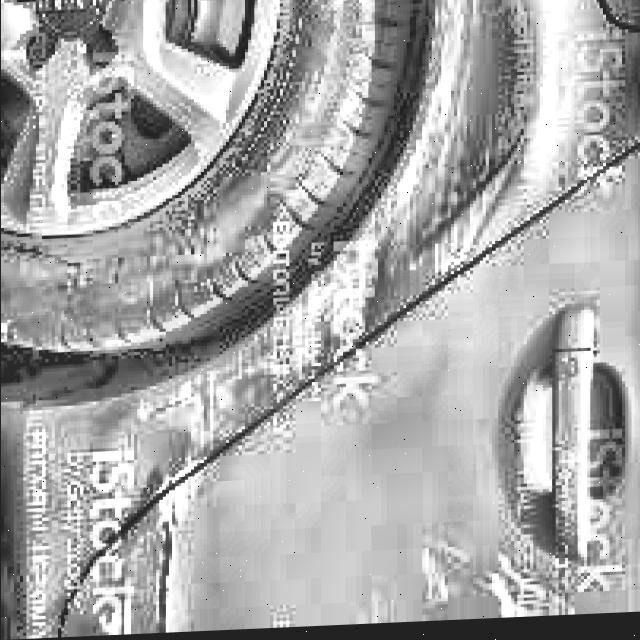door_dent: (398, 0, 532, 263)
door_scratch: (255, 241, 378, 386), (133, 479, 197, 634)
